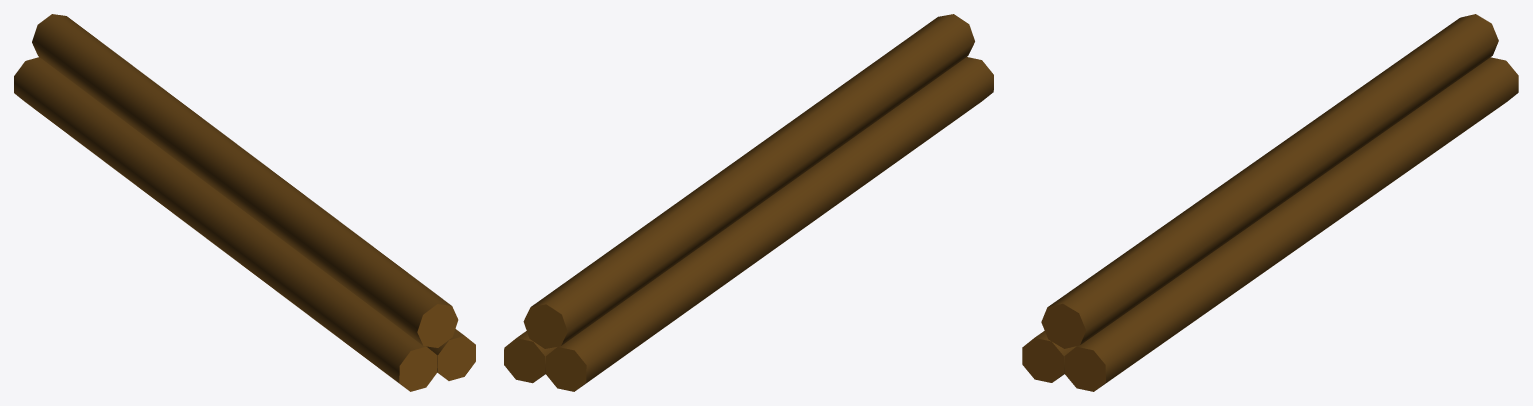
File: LogPileLong.fbx
3 renders of one model, left to right at view 1: azimuth 30°, elevation 25°; view 2: azimuth 150°, elevation 25°; view 3: azimuth 330°, elevation 25°, orthographic.
Parts seen in each view (by area): view 1: VillagerLogPileLong; view 2: VillagerLogPileLong; view 3: VillagerLogPileLong.
Part boxes in pixels (x1=…): VillagerLogPileLong: x1=14, y1=14, x2=475, y2=391; VillagerLogPileLong: x1=504, y1=14, x2=993, y2=391; VillagerLogPileLong: x1=1022, y1=14, x2=1518, y2=391.
Size of the model in its own units: 27.23 by 24.17 by 210.
